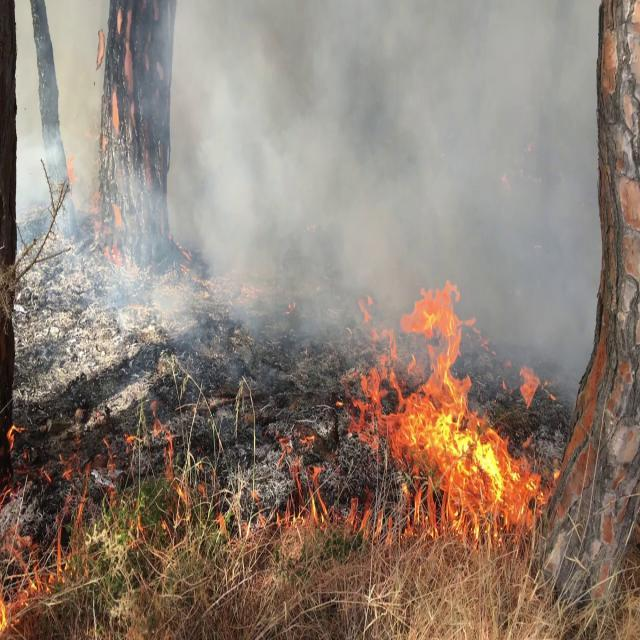Fire: (348, 290, 542, 528)
Smoke: (37, 0, 606, 368)
